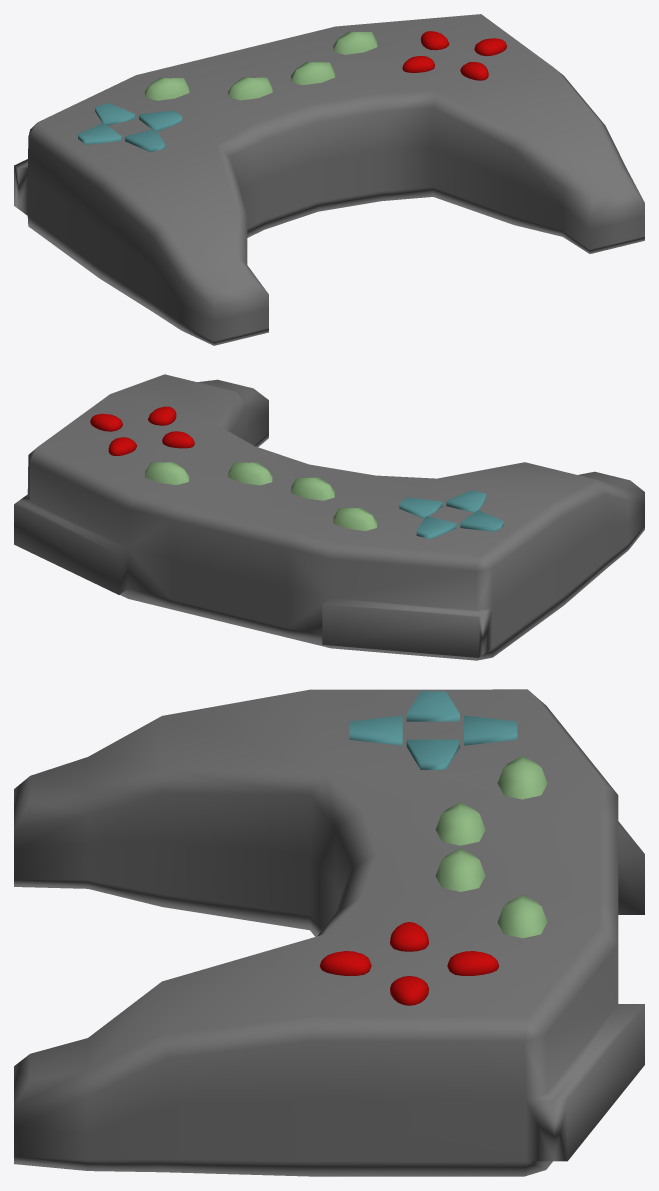
Rendered from Controller.fbx.
The picture shows the model from 3 angles, top to bottom: view 1: azimuth 30°, elevation 25°; view 2: azimuth 150°, elevation 25°; view 3: azimuth 270°, elevation 25°; orthographic projection. The views are drawn at different scales.
Visible parts, largest first — view 1: Controller; view 2: Controller; view 3: Controller.
Part boxes in pixels (box(x1,y1,x2,y2)): Controller: box(14, 14, 644, 345); Controller: box(14, 374, 644, 660); Controller: box(14, 689, 644, 1176).
Bounding box in the file's own units: 40.22 × 9.56 × 31.3.
